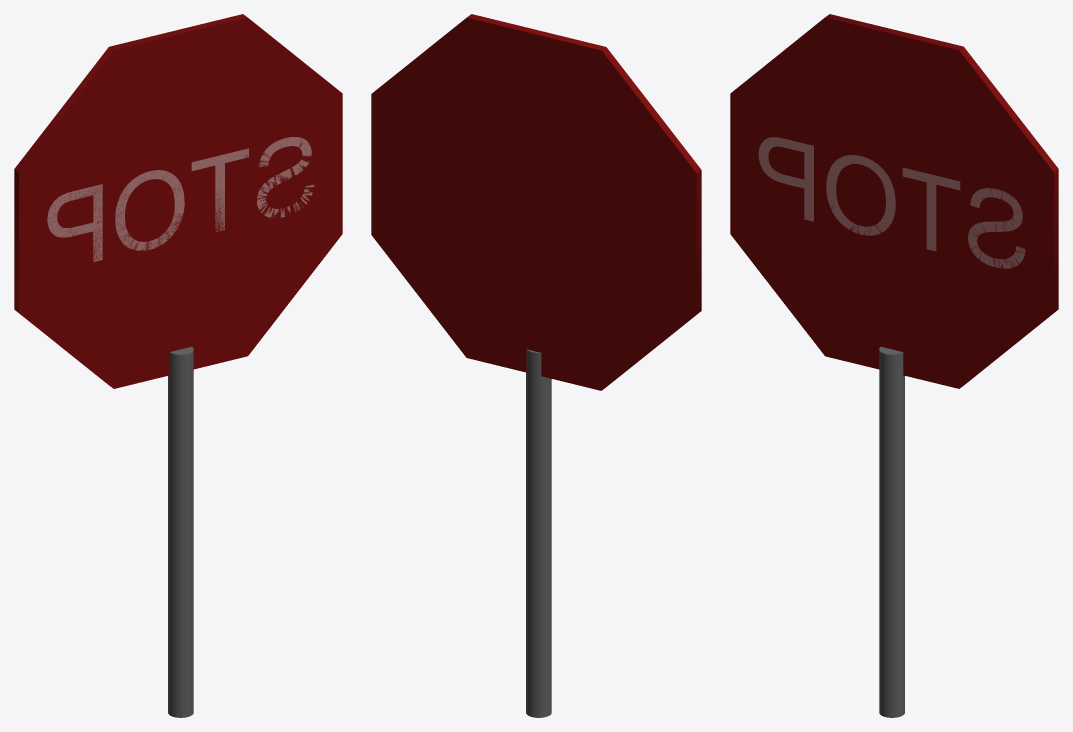
File: StopSign.FBX
3 renders of one model, left to right at view 1: azimuth 30°, elevation 25°; view 2: azimuth 150°, elevation 25°; view 3: azimuth 330°, elevation 25°, orthographic.
Parts seen in each view (by area): view 1: stop, Cylinder001, Text002; view 2: stop, Cylinder001; view 3: stop, Cylinder001, Text002.
Part boxes in pixels (x1,y1,x2,y2): stop: [14, 14, 342, 388]; Cylinder001: [168, 346, 193, 717]; Text002: [47, 137, 314, 261]; stop: [371, 14, 701, 390]; Cylinder001: [526, 349, 551, 717]; stop: [730, 14, 1058, 388]; Cylinder001: [879, 346, 904, 717]; Text002: [758, 137, 1025, 268].
Size of the model in its own units: 142 by 284 by 9.74.
